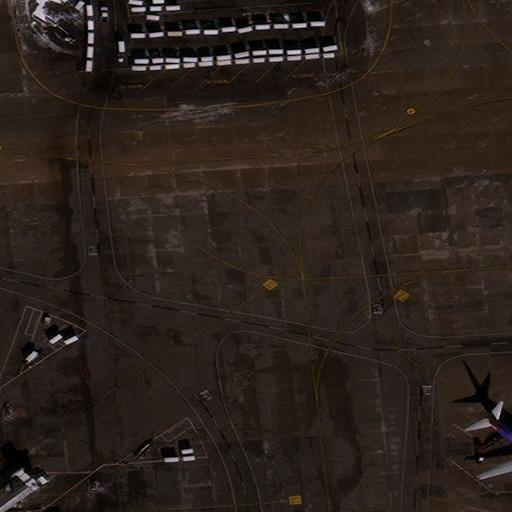Medium Civil Transport: (478, 414, 512, 482)
